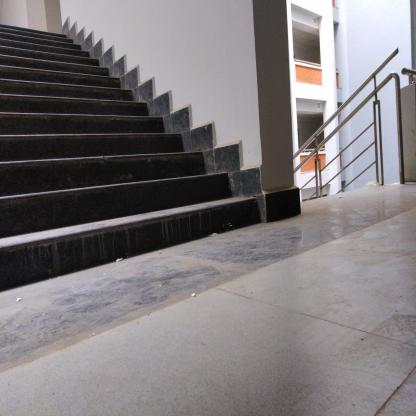stairs: (2, 29, 61, 301)
